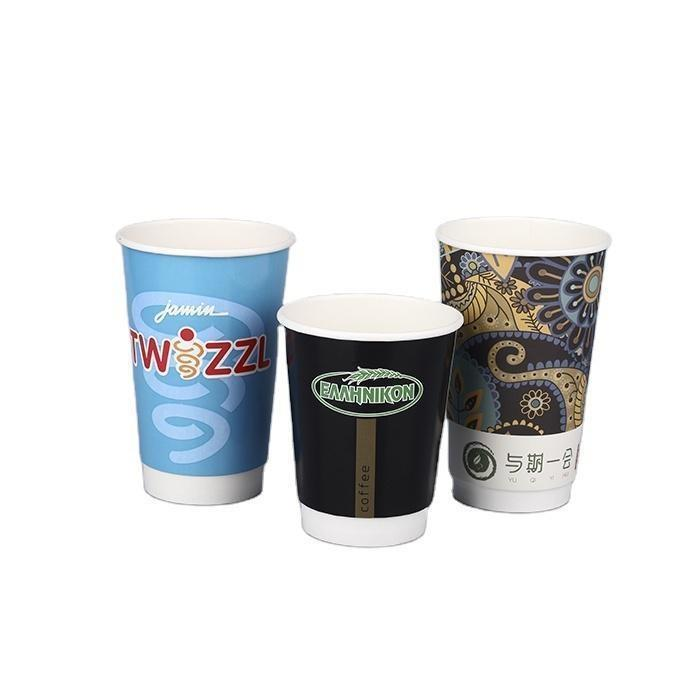cup-disposable: (433, 212, 613, 515), (114, 214, 298, 506), (275, 289, 463, 550)
